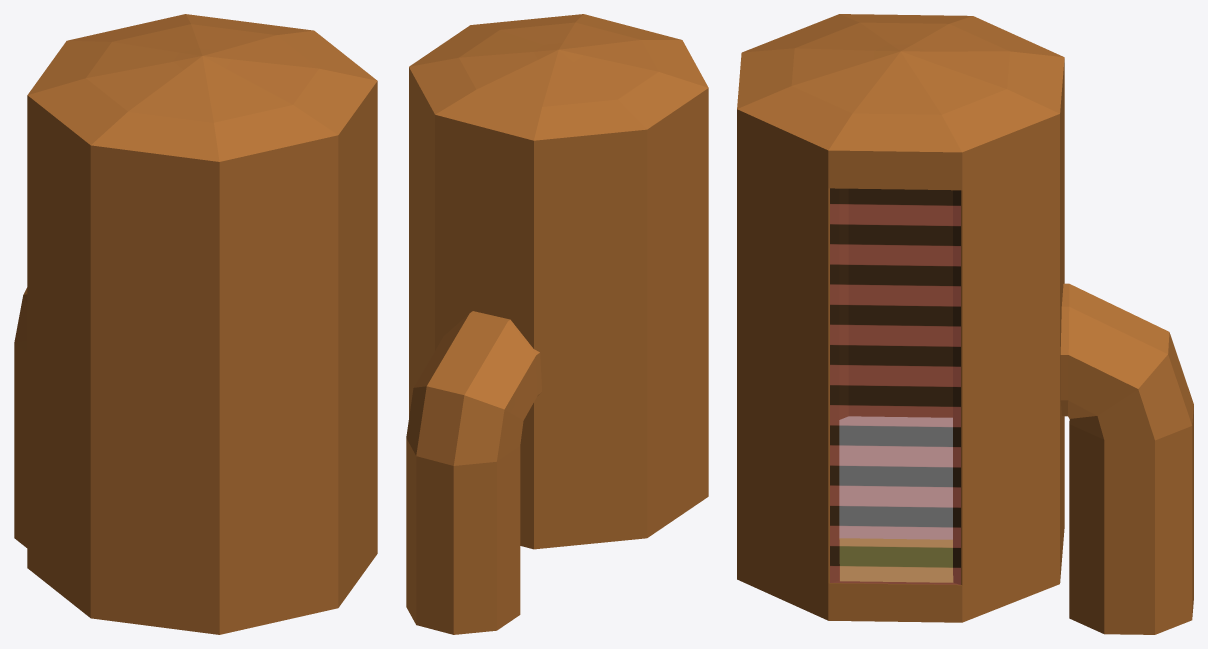
File: VAT20.glb
3 renders of one model, left to right at view 1: azimuth 30°, elevation 25°; view 2: azimuth 150°, elevation 25°; view 3: azimuth 270°, elevation 25°, orthographic. The views are drawn at different scales.
Visible parts, largest first — view 1: Cylinder, Cylinder.001; view 2: Cylinder, Cylinder.001; view 3: Cylinder, glass, Cylinder.001, liquidHeight.
Part boxes in pixels (x1=…): Cylinder: x1=27, y1=14, x2=377, y2=634; Cylinder.001: x1=14, y1=287, x2=27, y2=547; Cylinder: x1=409, y1=14, x2=708, y2=549; Cylinder.001: x1=406, y1=311, x2=541, y2=634; Cylinder: x1=737, y1=14, x2=1064, y2=622; glass: x1=830, y1=188, x2=960, y2=584; Cylinder.001: x1=1060, y1=283, x2=1193, y2=634; liquidHeight: x1=839, y1=416, x2=952, y2=582.
Size of the model in its own units: 1.82 by 3.44 by 2.54.
Materials: 4 (1 with a texture image).
